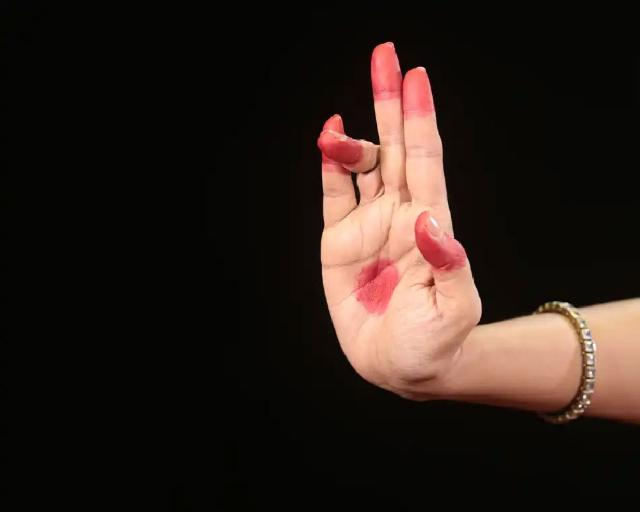tripataka: (319, 44, 482, 388)
